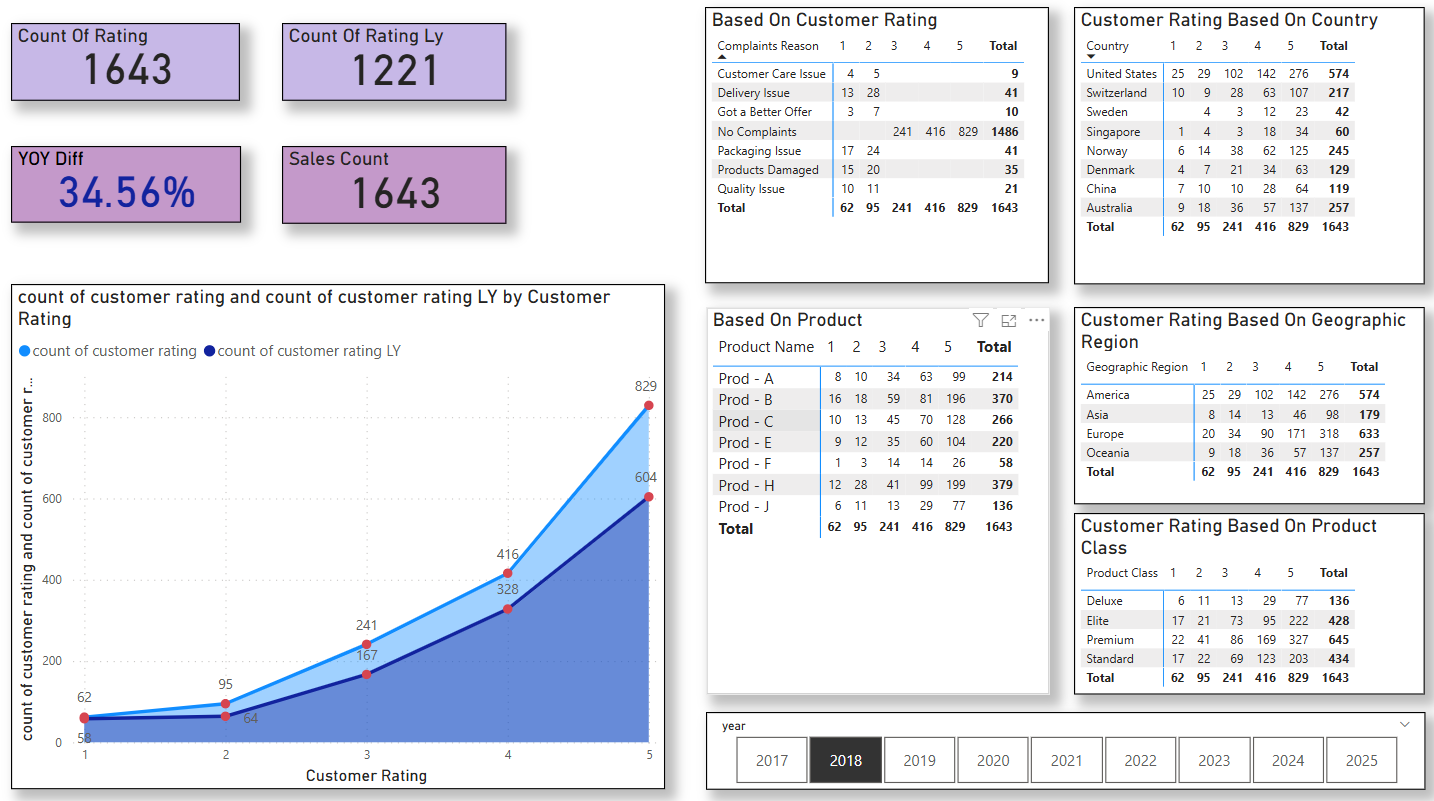

This screenshot's page, from the dashboard's own definition file:
{"tool":"powerbi","page":{"name":"Page 2","canvas":[1280,720],"ordinal":1},"visuals":[{"type":"areaChart","fields":{"Category":["Sales Data.Customer Rating"],"Y":["ALL Measures.count of customer rating","ALL Measures.count of customer rating LY"]},"box":[13.7,259.1,579.6,447.7],"z":0},{"type":"pivotTable","title":"Based On Customer Rating","fields":{"Rows":["Sales Data.Complaints Reason"],"Columns":["Sales Data.Customer Rating"],"Values":["ALL Measures.count of customer rating"]},"box":[629,13.7,304.9,245.4],"z":1000},{"type":"pivotTable","title":"Customer Rating Based On Geographic Region","fields":{"Columns":["Sales Data.Customer Rating"],"Values":["ALL Measures.count of customer rating"],"Rows":["Sales Data.Geographic Region"]},"box":[956,279.2,311.5,175],"z":2000},{"type":"pivotTable","title":"Customer Rating Based On  Product Class","fields":{"Columns":["Sales Data.Customer Rating"],"Values":["ALL Measures.count of customer rating"],"Rows":["Sales Data.Product Class"]},"box":[956,462.3,311.5,160.7],"z":3000},{"type":"pivotTable","title":"Based On Product","fields":{"Columns":["Sales Data.Customer Rating"],"Values":["ALL Measures.count of customer rating"],"Rows":["Sales Data.Product Name"]},"box":[629.2,279.2,305.2,343.8],"z":4000},{"type":"pivotTable","title":" Customer Rating Based On Country","fields":{"Columns":["Sales Data.Customer Rating"],"Values":["ALL Measures.count of customer rating"],"Rows":["Sales Data.Country"]},"box":[956,13.5,311.5,245.9],"z":5000},{"type":"card","title":"Count Of Rating","fields":{"Values":["ALL Measures.count of customer rating"]},"box":[13.7,27.5,203.3,68.7],"z":6000},{"type":"slicer","fields":{"Values":["calender table.year"]},"box":[629.2,638.2,638.2,69.1],"z":7000},{"type":"card","title":"Count Of Rating Ly","fields":{"Values":["ALL Measures.count of customer rating LY"]},"box":[253.6,27.5,198.7,68.7],"z":8000},{"type":"card","title":"YOY Diff","fields":{"Values":["ALL Measures.% YOY RATING"]},"box":[13.5,136.4,203.8,68.2],"z":9000},{"type":"card","title":"Sales Count","fields":{"Values":["ALL Measures.count of customer rating"]},"box":[253.6,136.4,198.7,68.7],"z":10000}]}

Visuals, with their boxes in screenshot pixels (x1, y1, x2, y2), scaled from the page's 1280x720 canvas onto the 1434x801 screenshot:
areaChart - Sales Data.Customer Rating x ALL Measures.count of customer rating: l=15, t=288, r=665, b=786
"Based On Customer Rating" pivotTable: l=705, t=15, r=1046, b=288
"Customer Rating Based On Geographic Region" pivotTable: l=1071, t=311, r=1420, b=505
"Customer Rating Based On  Product Class" pivotTable: l=1071, t=514, r=1420, b=693
"Based On Product" pivotTable: l=705, t=311, r=1047, b=693
" Customer Rating Based On Country" pivotTable: l=1071, t=15, r=1420, b=289
"Count Of Rating" card: l=15, t=31, r=243, b=107
slicer - calender table.year: l=705, t=710, r=1420, b=787
"Count Of Rating Ly" card: l=284, t=31, r=507, b=107
"YOY Diff" card: l=15, t=152, r=243, b=228
"Sales Count" card: l=284, t=152, r=507, b=228
